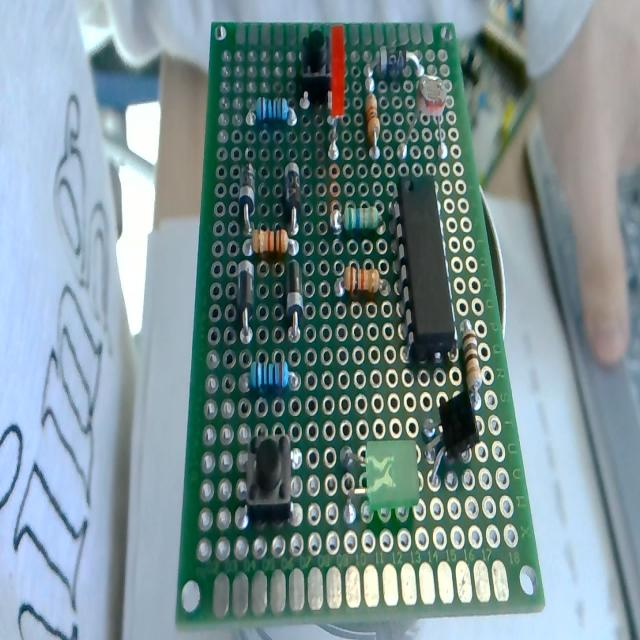IC: (389, 172, 461, 365)
cds: (397, 72, 467, 170)
diode: (363, 42, 426, 84), (281, 253, 306, 347), (237, 255, 262, 346), (235, 152, 262, 236), (280, 152, 304, 232)
led: (332, 431, 421, 526), (329, 18, 352, 162)
resistor: (461, 316, 494, 406), (242, 87, 304, 134), (330, 263, 391, 308), (328, 202, 391, 243), (360, 75, 390, 161), (241, 356, 305, 396), (240, 229, 305, 259)
switch: (233, 417, 309, 541), (300, 25, 335, 107)
transistor: (419, 394, 484, 486)
